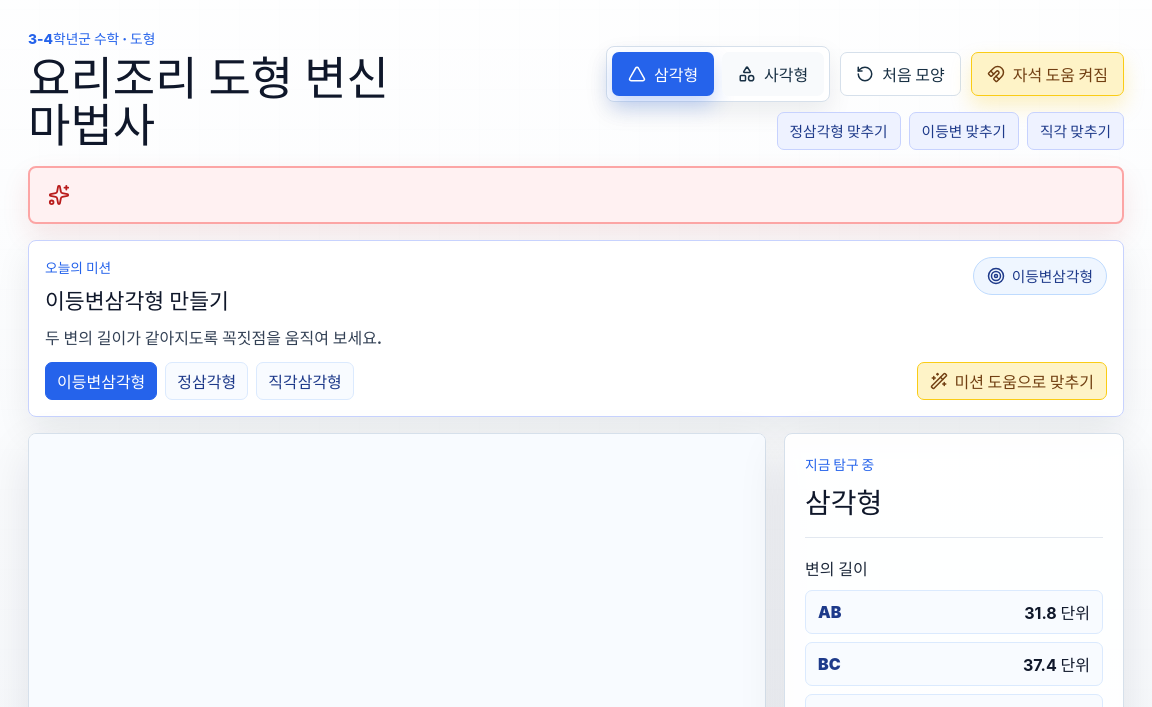
Test: App › switches between triangle and quadrilateral modes
The image size is (1152, 707).
Expected: the heading "삼각형" is shown, 805,486 -> 882,520
Click the button "사각형": (773, 74) 722,52 -> 824,96
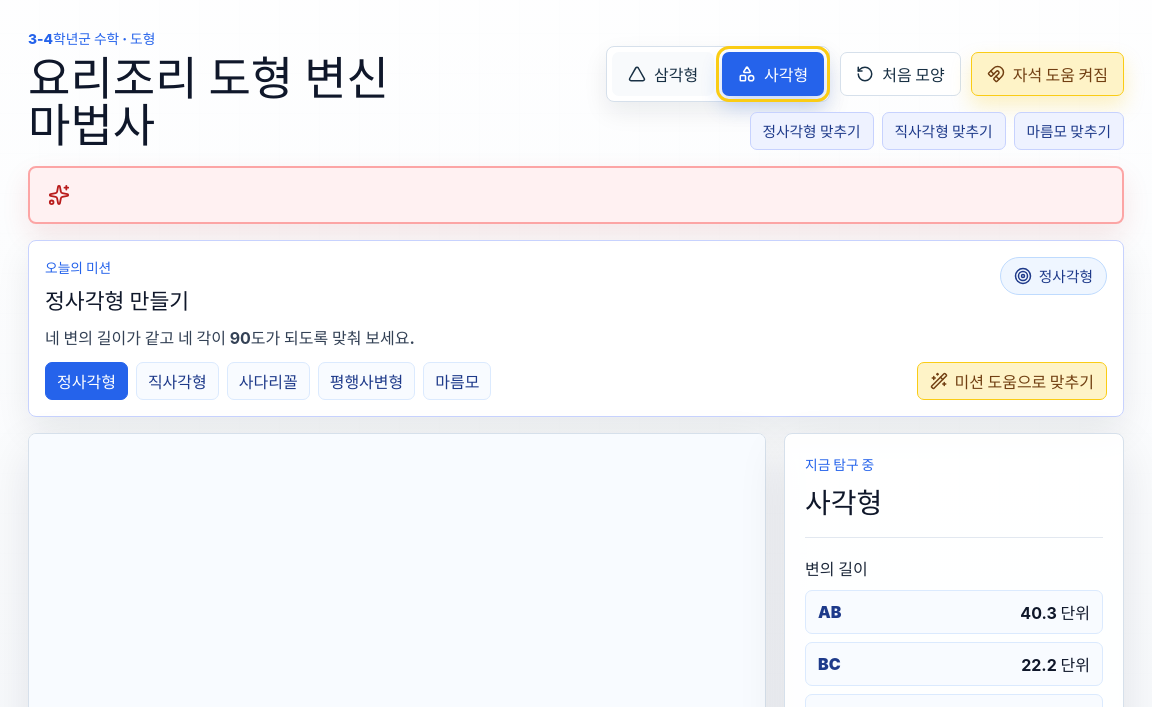
Expected: the heading "사각형" is shown, 805,486 -> 882,520
Expected: the button "정사각형 맞추기" is shown, 750,112 -> 874,150
Expected: the heading "정사각형 만들기" is shown, 45,284 -> 189,315
